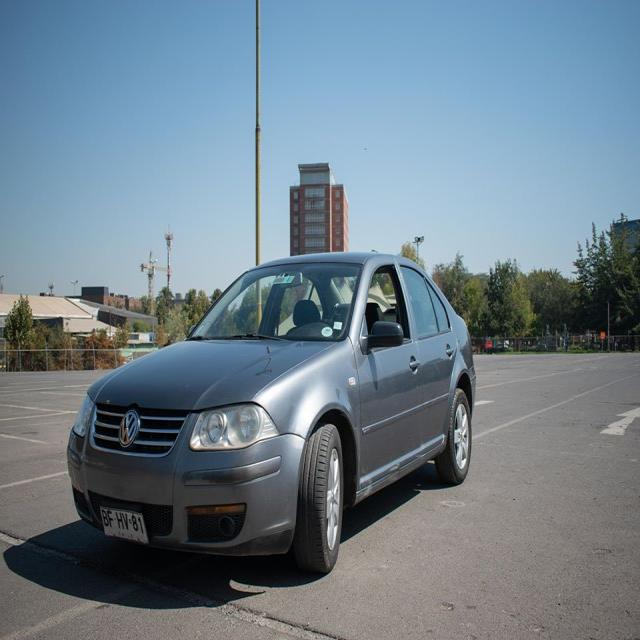patente: (98, 504, 148, 545)
